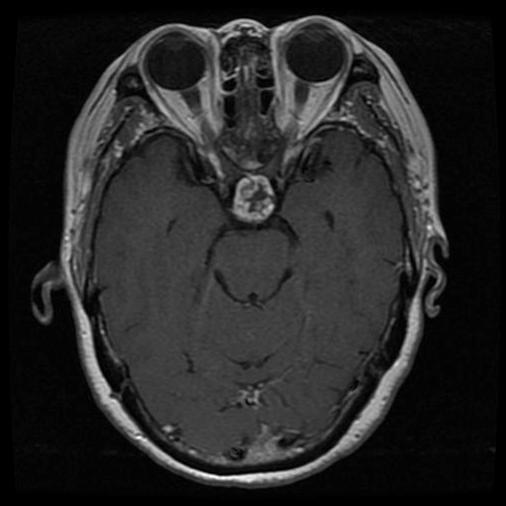Tumour-Pituitary: (232, 172, 279, 225)
